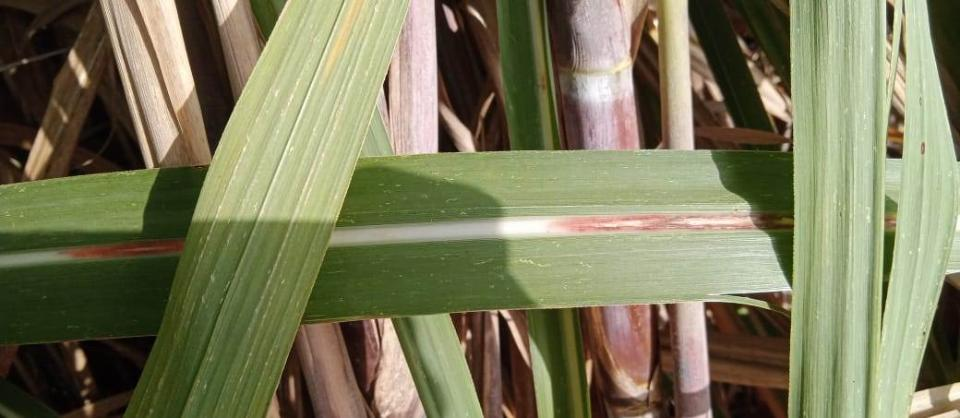RedRot: (543, 213, 793, 234), (48, 240, 183, 261)
